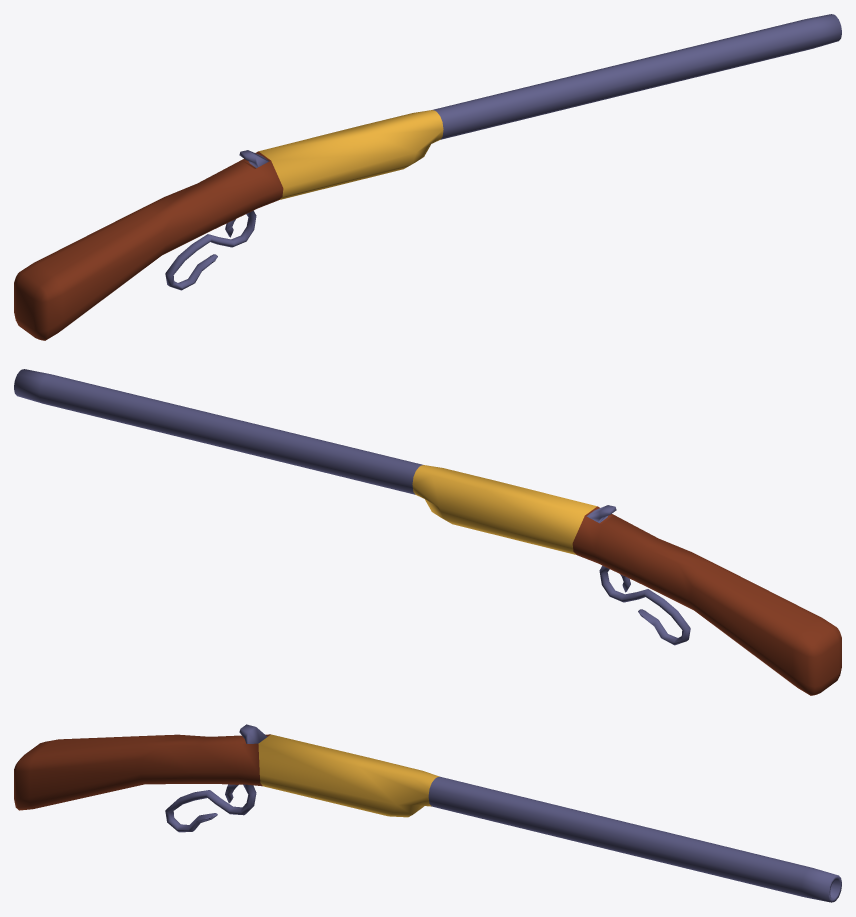
Rendered from rifle (1).fbx.
3 renders of one model, top to bottom at view 1: azimuth 30°, elevation 25°; view 2: azimuth 150°, elevation 25°; view 3: azimuth 330°, elevation 25°, orthographic.
Parts seen in each view (by area): view 1: rifle; view 2: rifle; view 3: rifle.
Part boxes in pixels (box(x1,y1,x2,y2)): rifle: box(14, 14, 841, 340); rifle: box(14, 369, 841, 695); rifle: box(14, 724, 841, 902).
Bounding box in the file's own units: 662 × 100 × 47.29.
